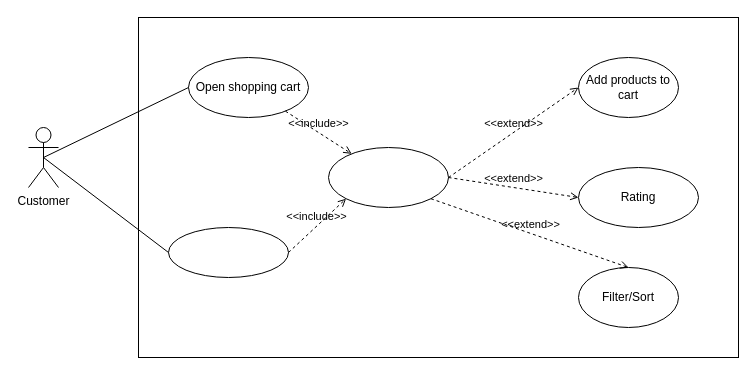
Image size: 756x375. Some labels were removed from this diagram. Here are the shapes that lost their labels. From the top down, the centre of each, then its label:
point (388, 177): View products
point (228, 252): Search products
